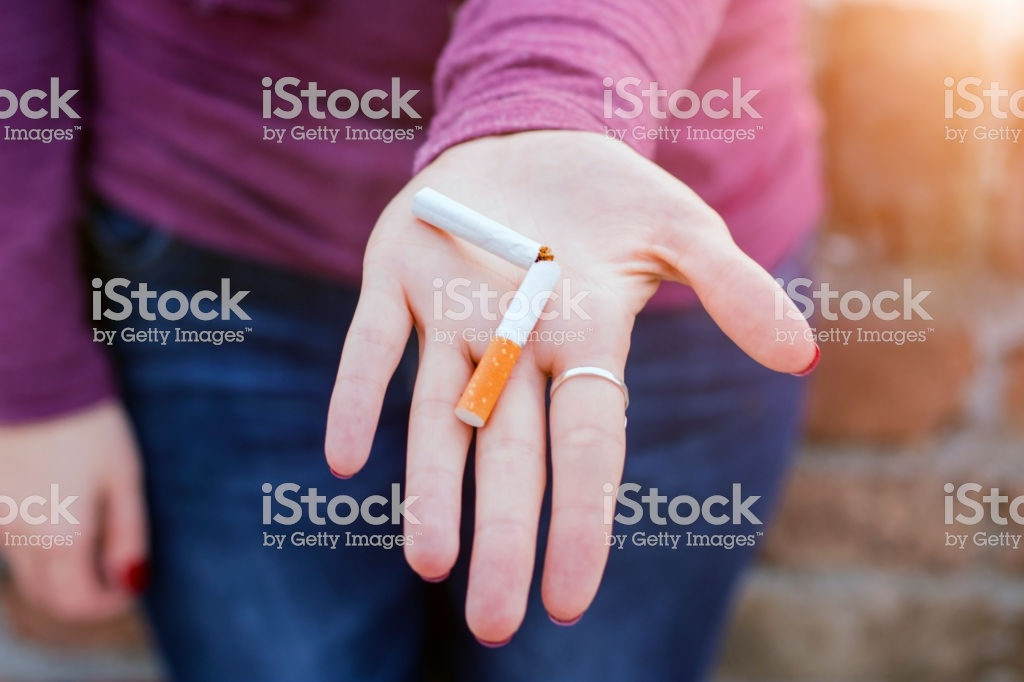sigaretta: (413, 191, 551, 435)
